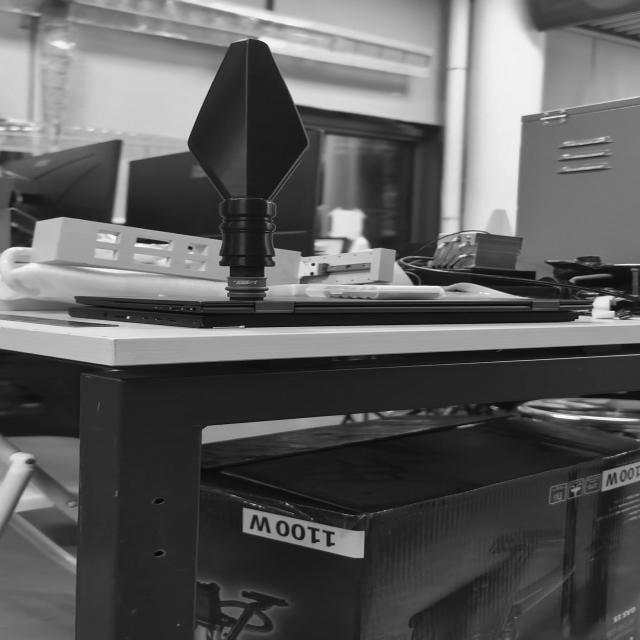base: (217, 273, 276, 305)
